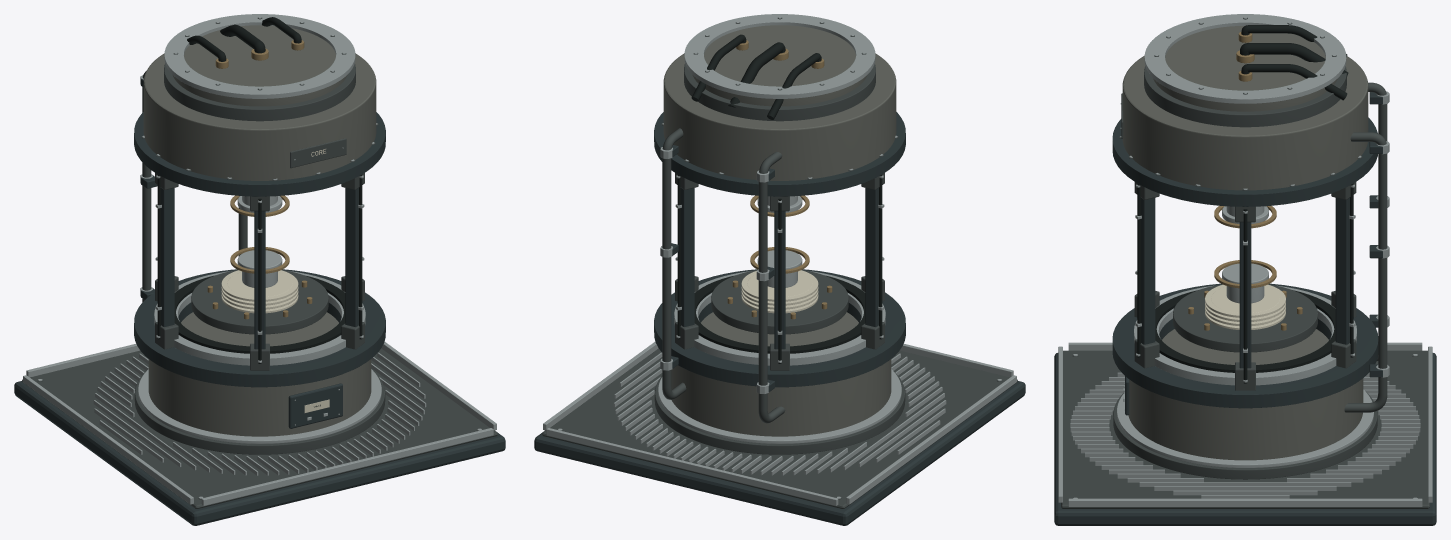
File: CORE_Containment.fbx
3 views of the same model, side by side, from view 1: azimuth 30°, elevation 25°; view 2: azimuth 150°, elevation 25°; view 3: azimuth 270°, elevation 25° (orthographic). The views are drawn at different scales.
Visible parts, largest first — view 1: CORE_Containment_EXPORT; view 2: CORE_Containment_EXPORT; view 3: CORE_Containment_EXPORT.
Boxes of the visible parts, x1,y1,x2,y2 form: CORE_Containment_EXPORT: (14,14,505,525); CORE_Containment_EXPORT: (534,14,1025,525); CORE_Containment_EXPORT: (1054,14,1436,525).
Size of the model in its own units: 2.99 by 3.48 by 2.99.
